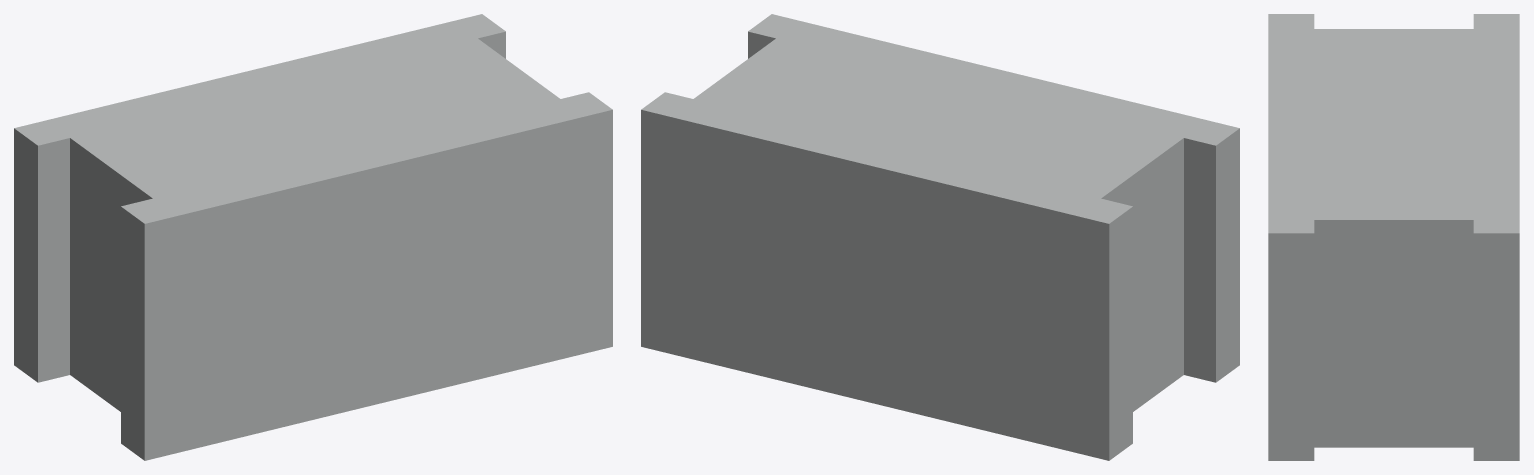
Rendered from Concrete_Block_06.fbx.
3 renders of one model, left to right at view 1: azimuth 30°, elevation 25°; view 2: azimuth 150°, elevation 25°; view 3: azimuth 270°, elevation 25°, orthographic. The views are drawn at different scales.
Visible parts, largest first — view 1: Concrete_Block_06; view 2: Concrete_Block_06; view 3: Concrete_Block_06.
Boxes of the visible parts, x1,y1,x2,y2 form: Concrete_Block_06: [14, 14, 612, 460]; Concrete_Block_06: [641, 14, 1239, 460]; Concrete_Block_06: [1268, 14, 1519, 460].
Bounding box in the file's own units: 49.6 × 24 × 24.
